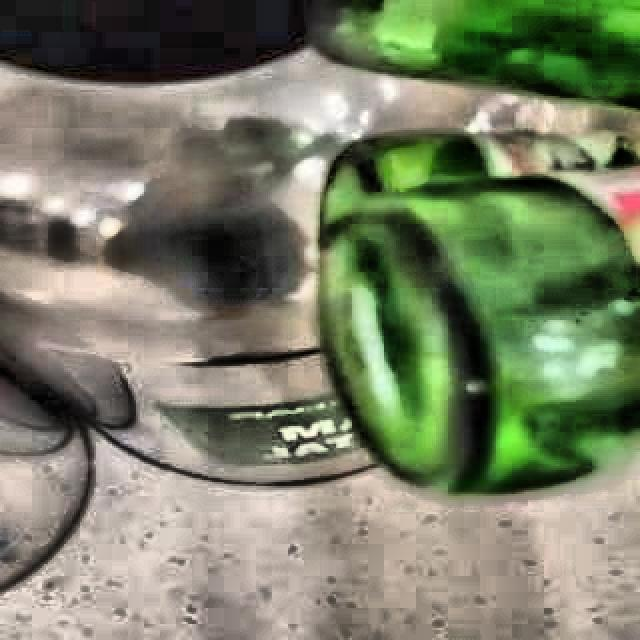glass: (317, 133, 640, 495)
